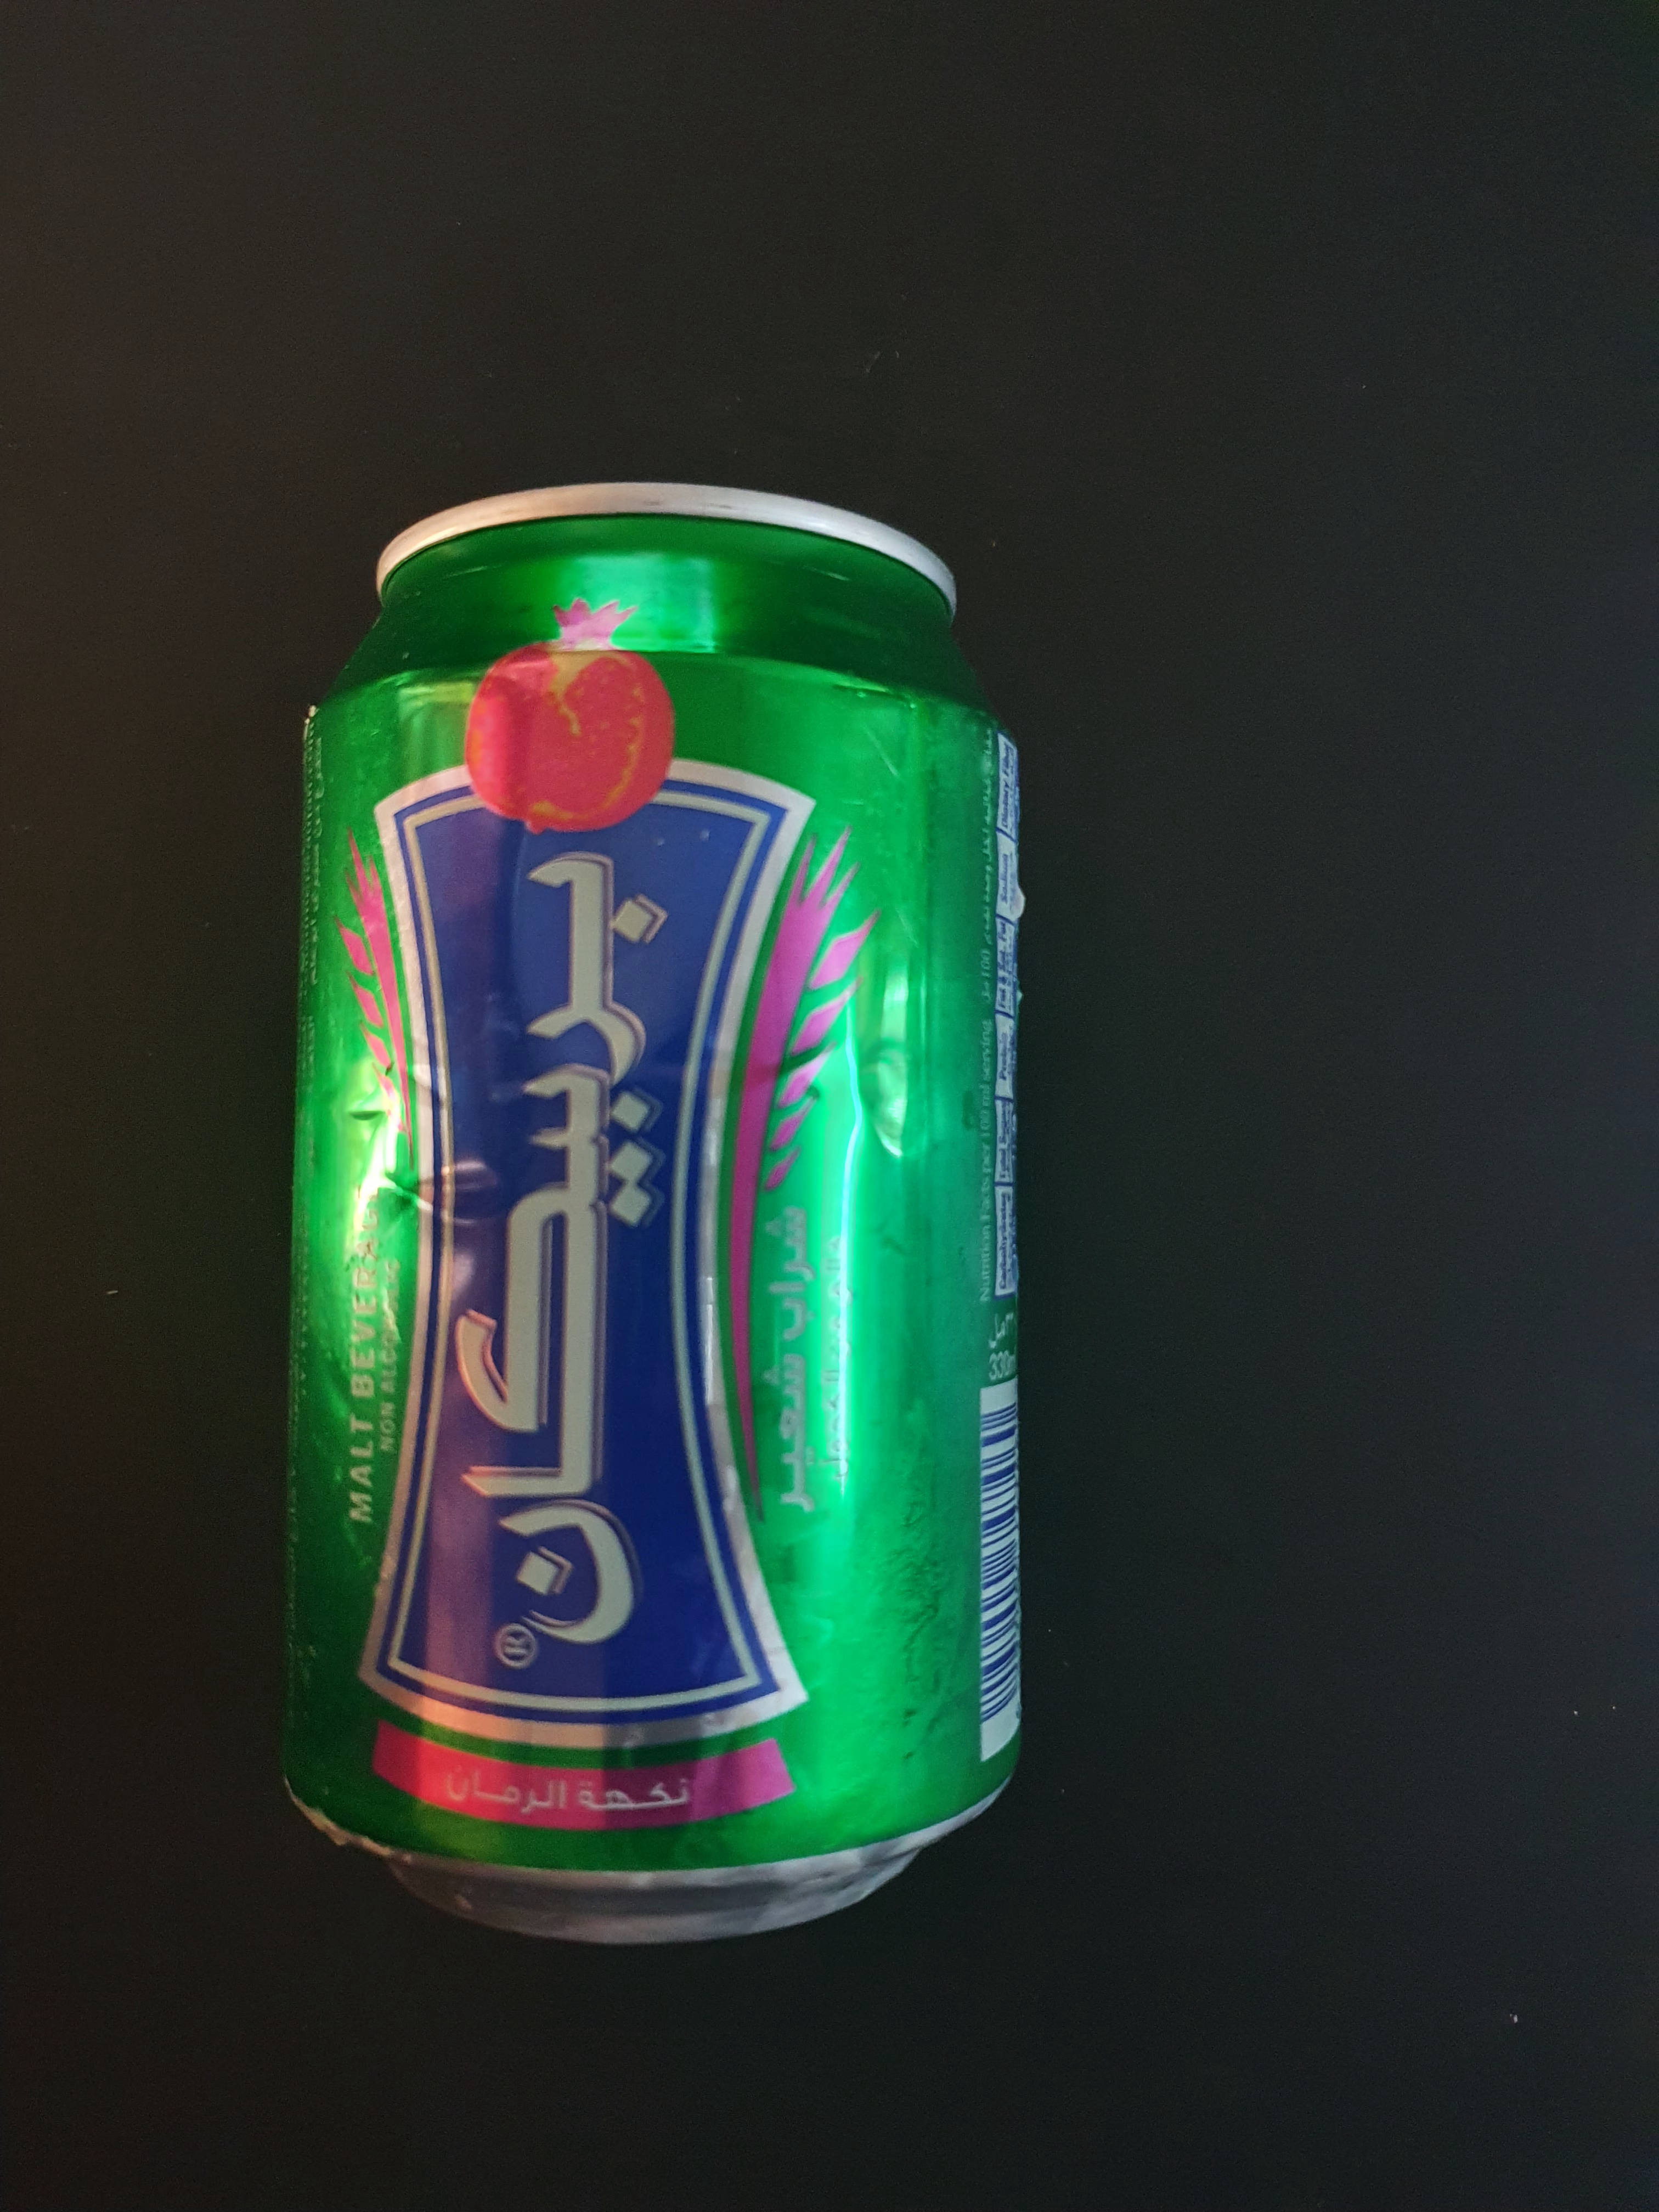metal: (254, 423, 1051, 1991)
